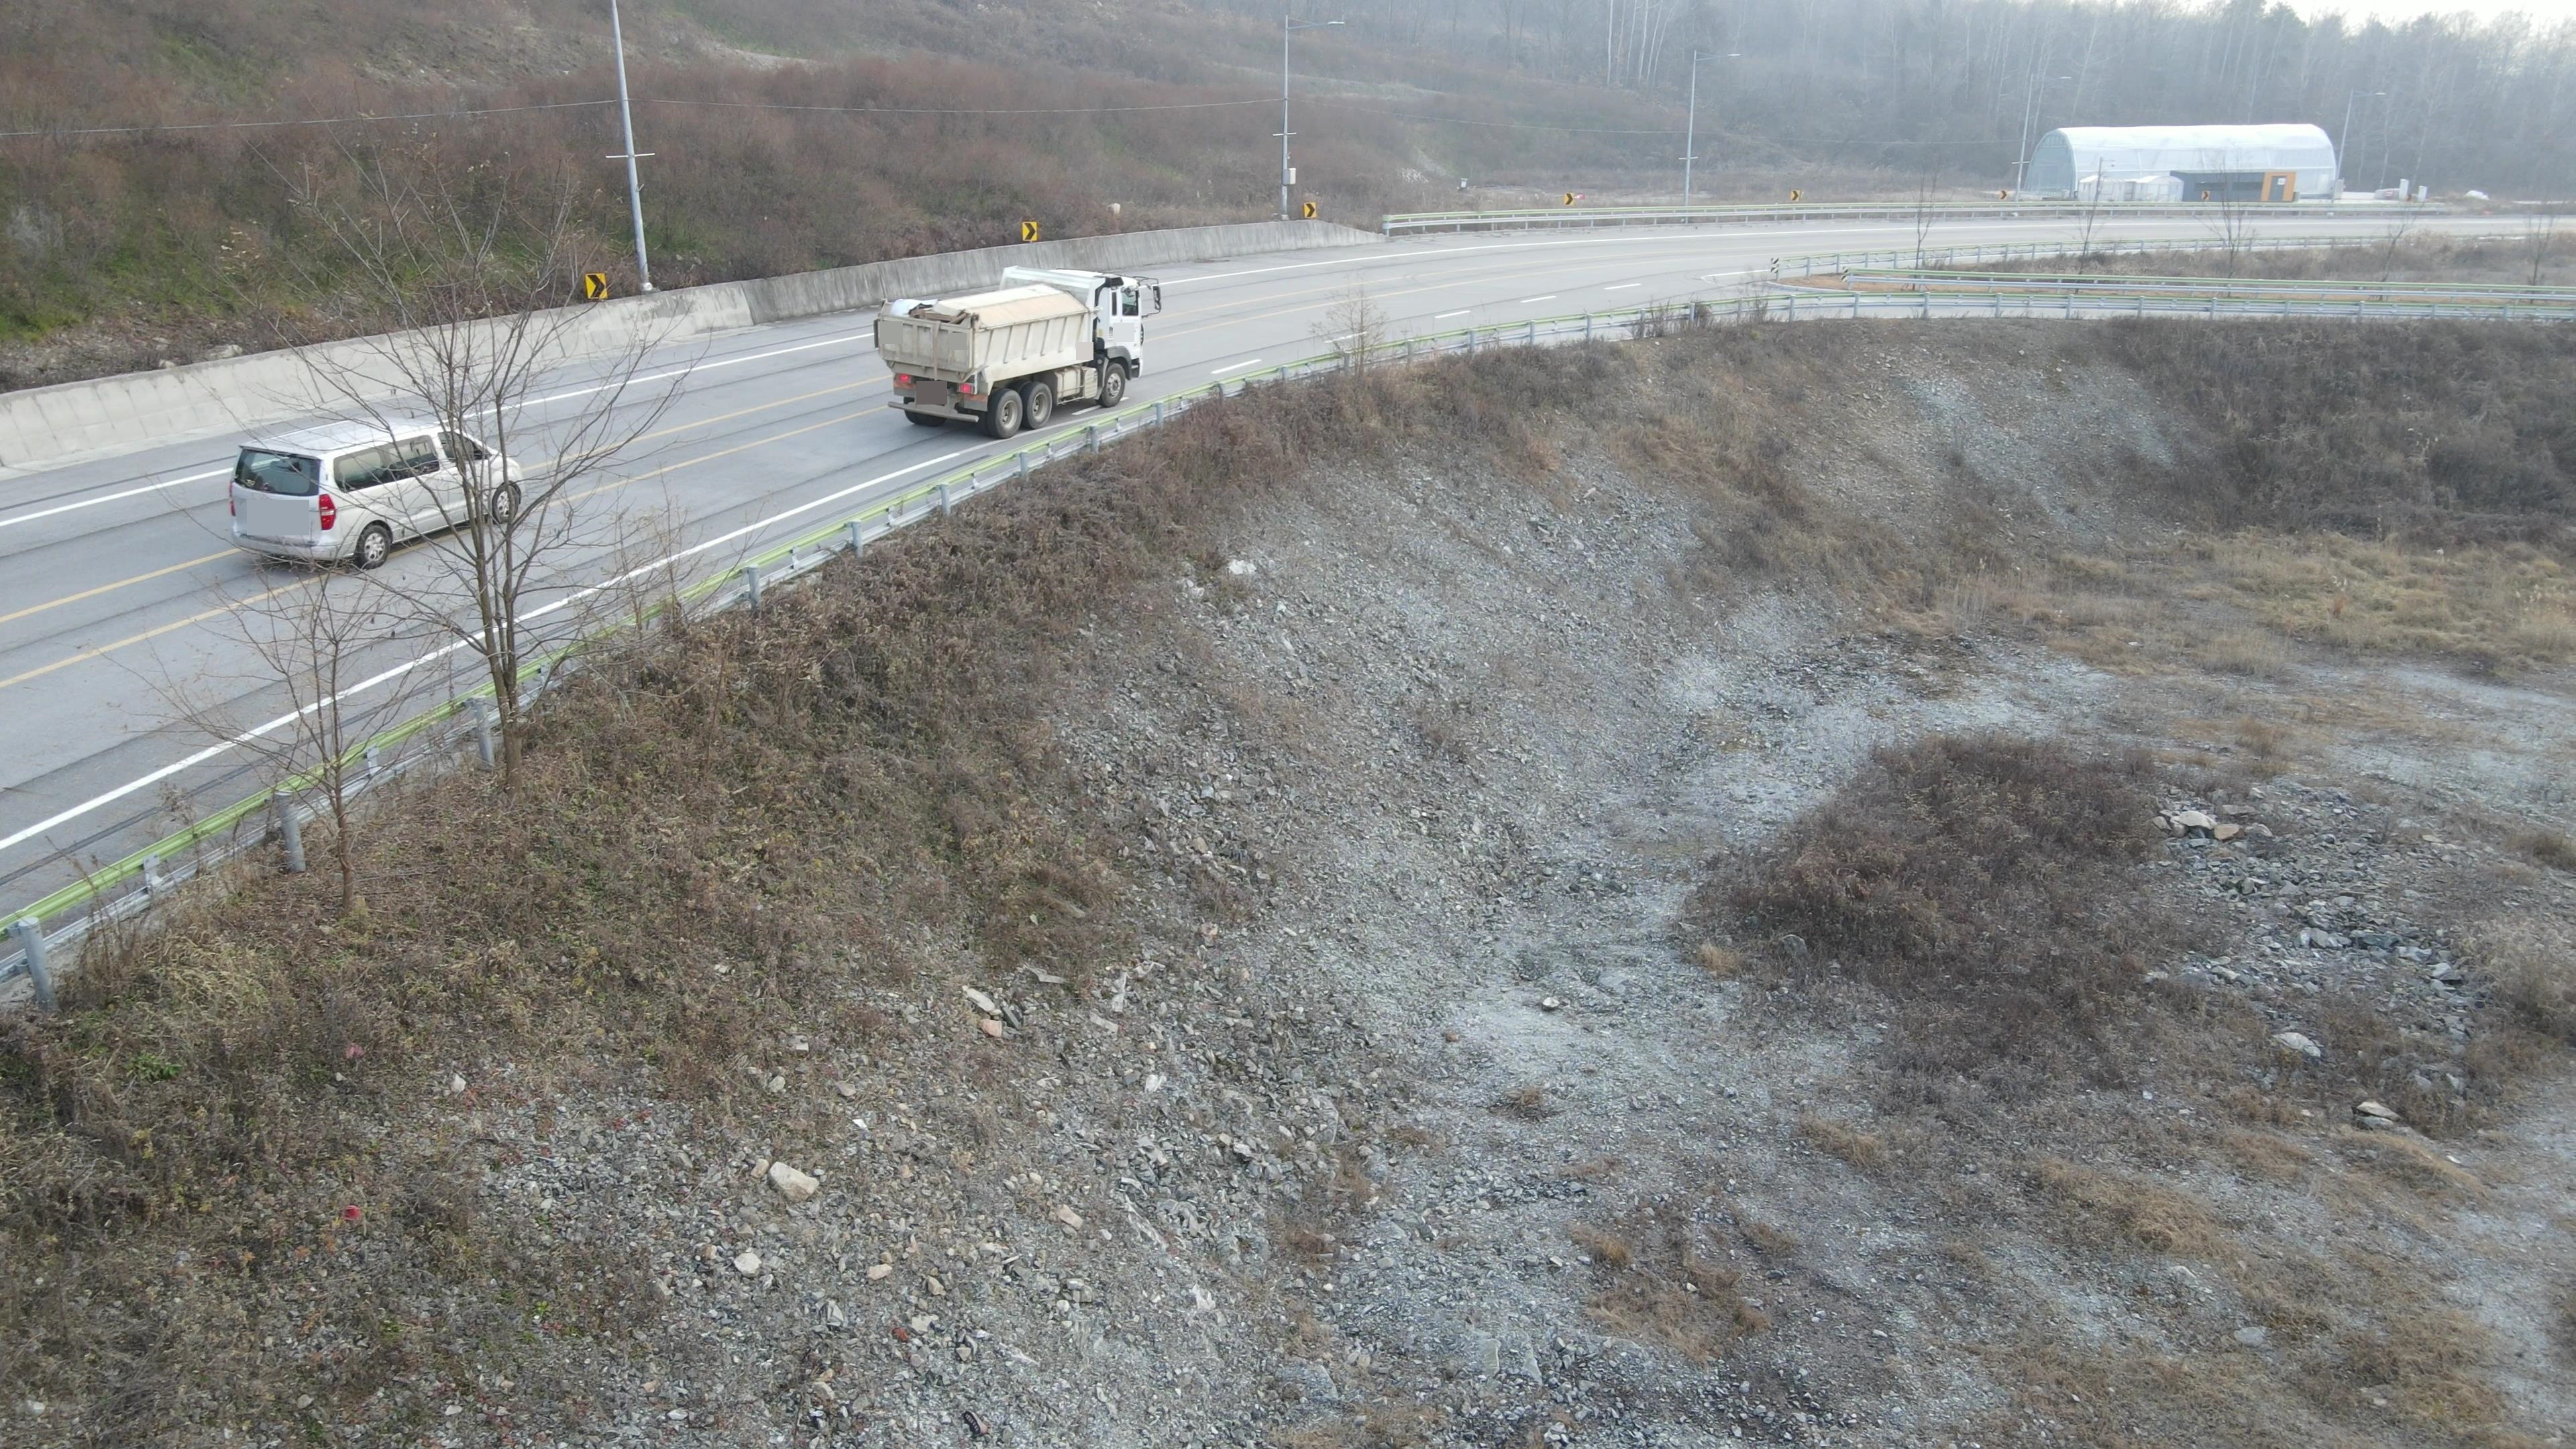불법차량: (874, 265, 1161, 439)
